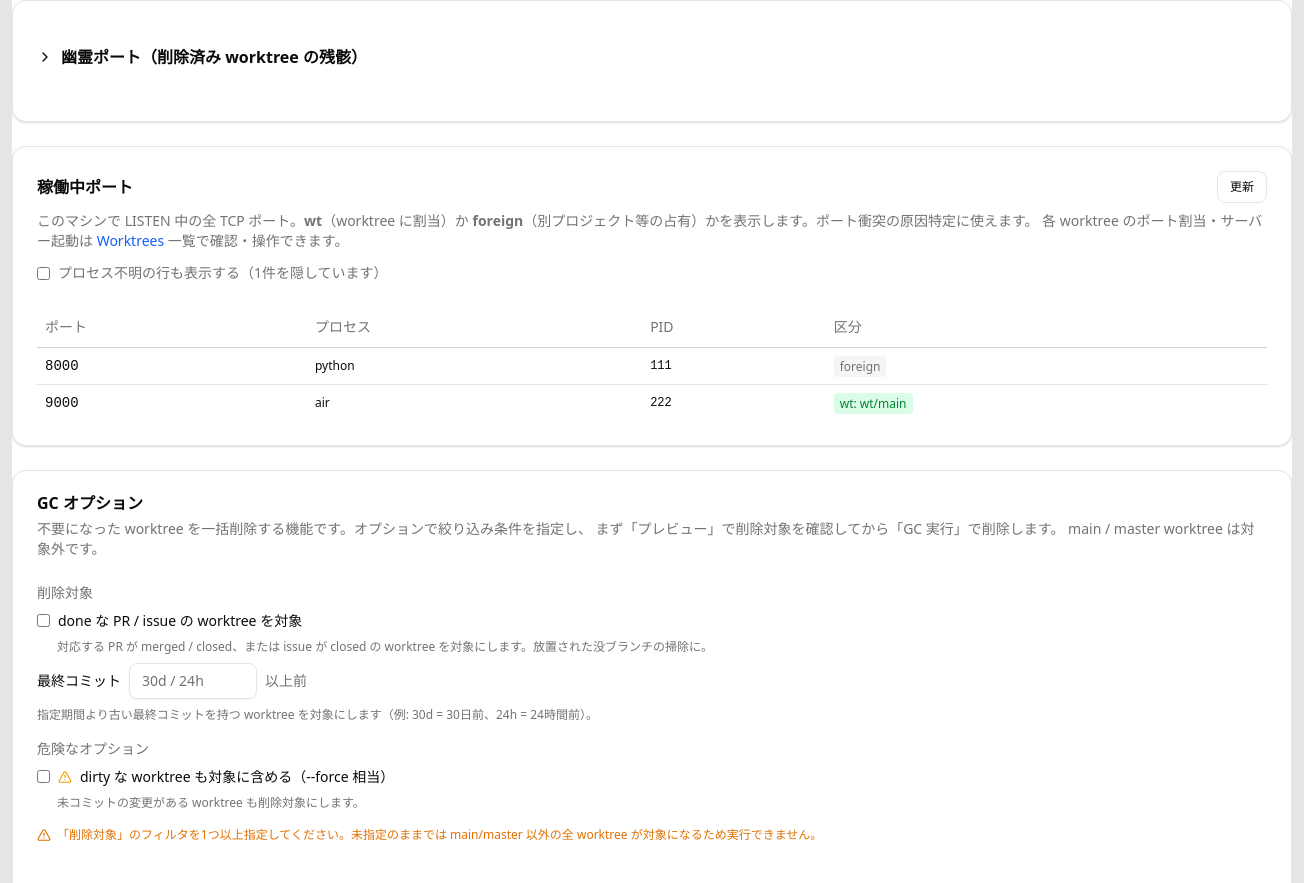
Test: MaintenancePage (Ports + GC combined) › keeps the ghost-port card collapsed by default (0件) and shows the empty state once opened
Check: the text "8000" is shown, box [37,347,307,384]
Check: the text "幽霊エントリはありません。" is not shown
Click the button "幽霊ポート（削除済み worktree の残骸）". click: (214, 57)
box: [13,25,1291,89]
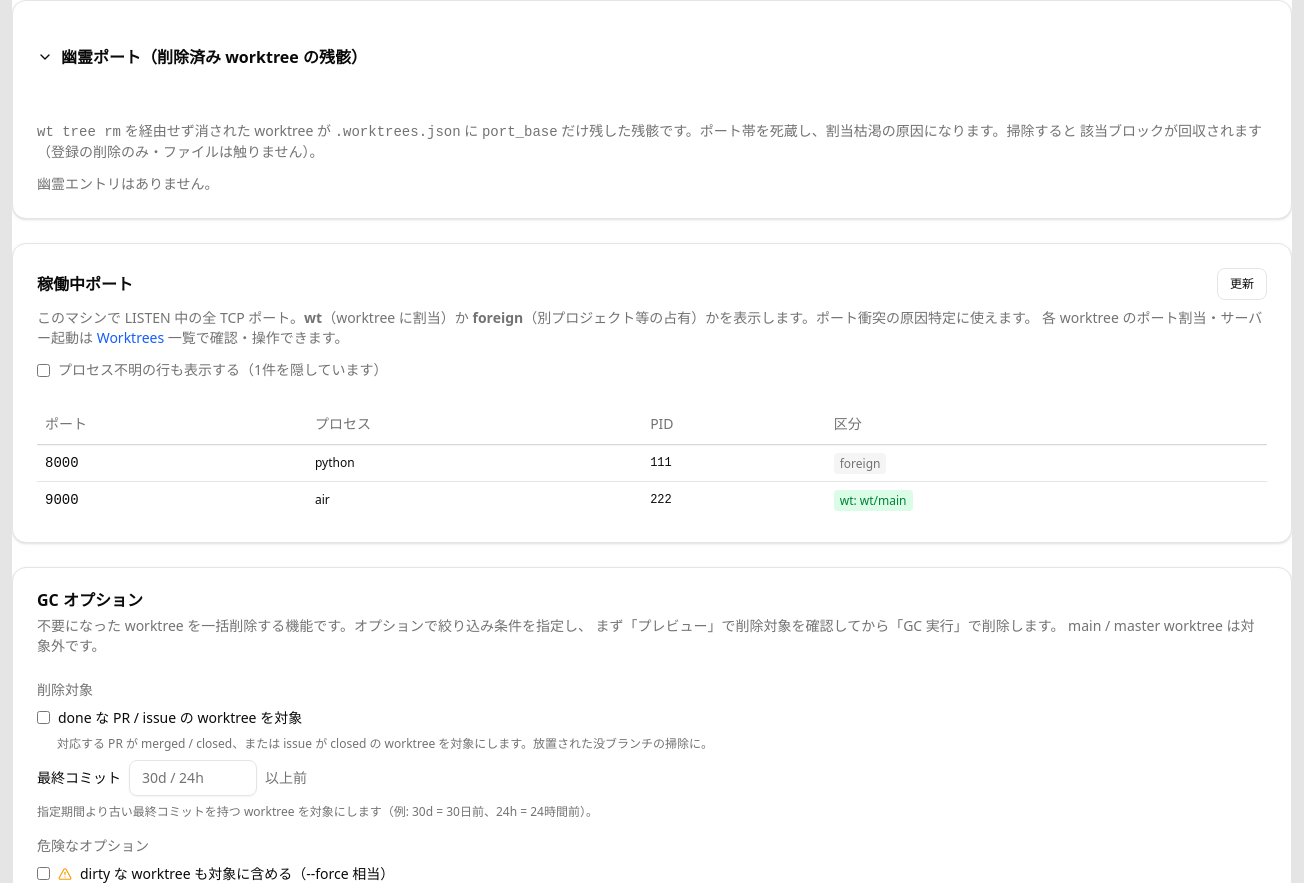
Check: the text "幽霊エントリはありません。" is shown, box [37,174,219,193]
